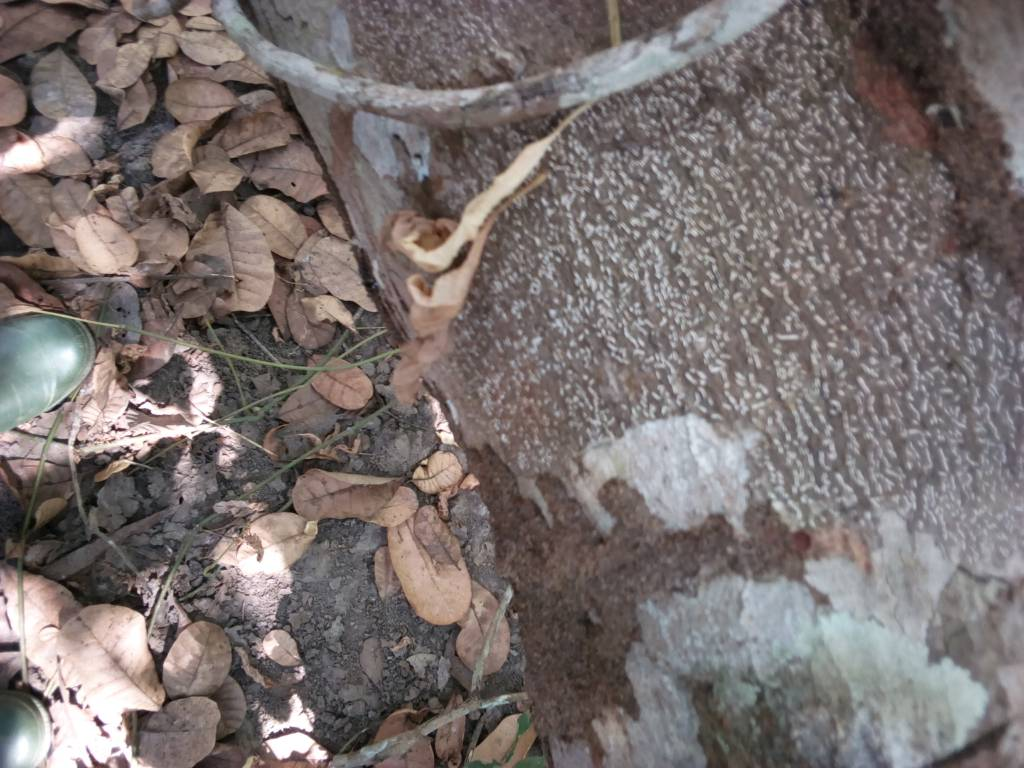Termites: (495, 452, 804, 737)
